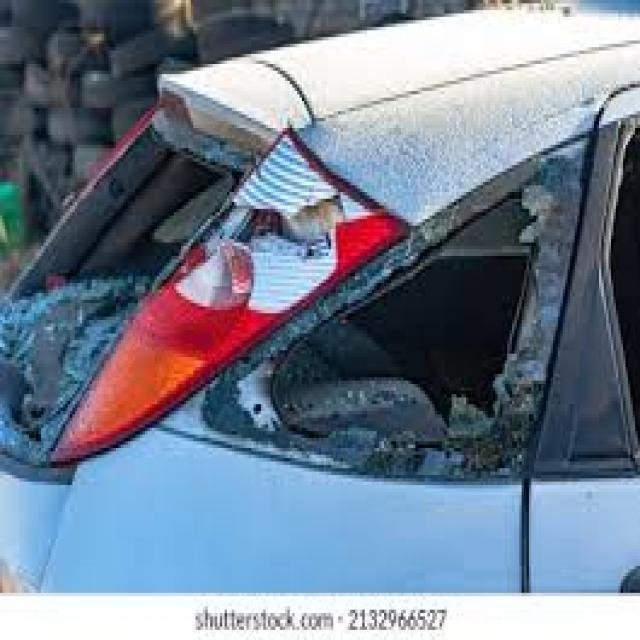damaged-tail-light: (70, 138, 376, 452)
